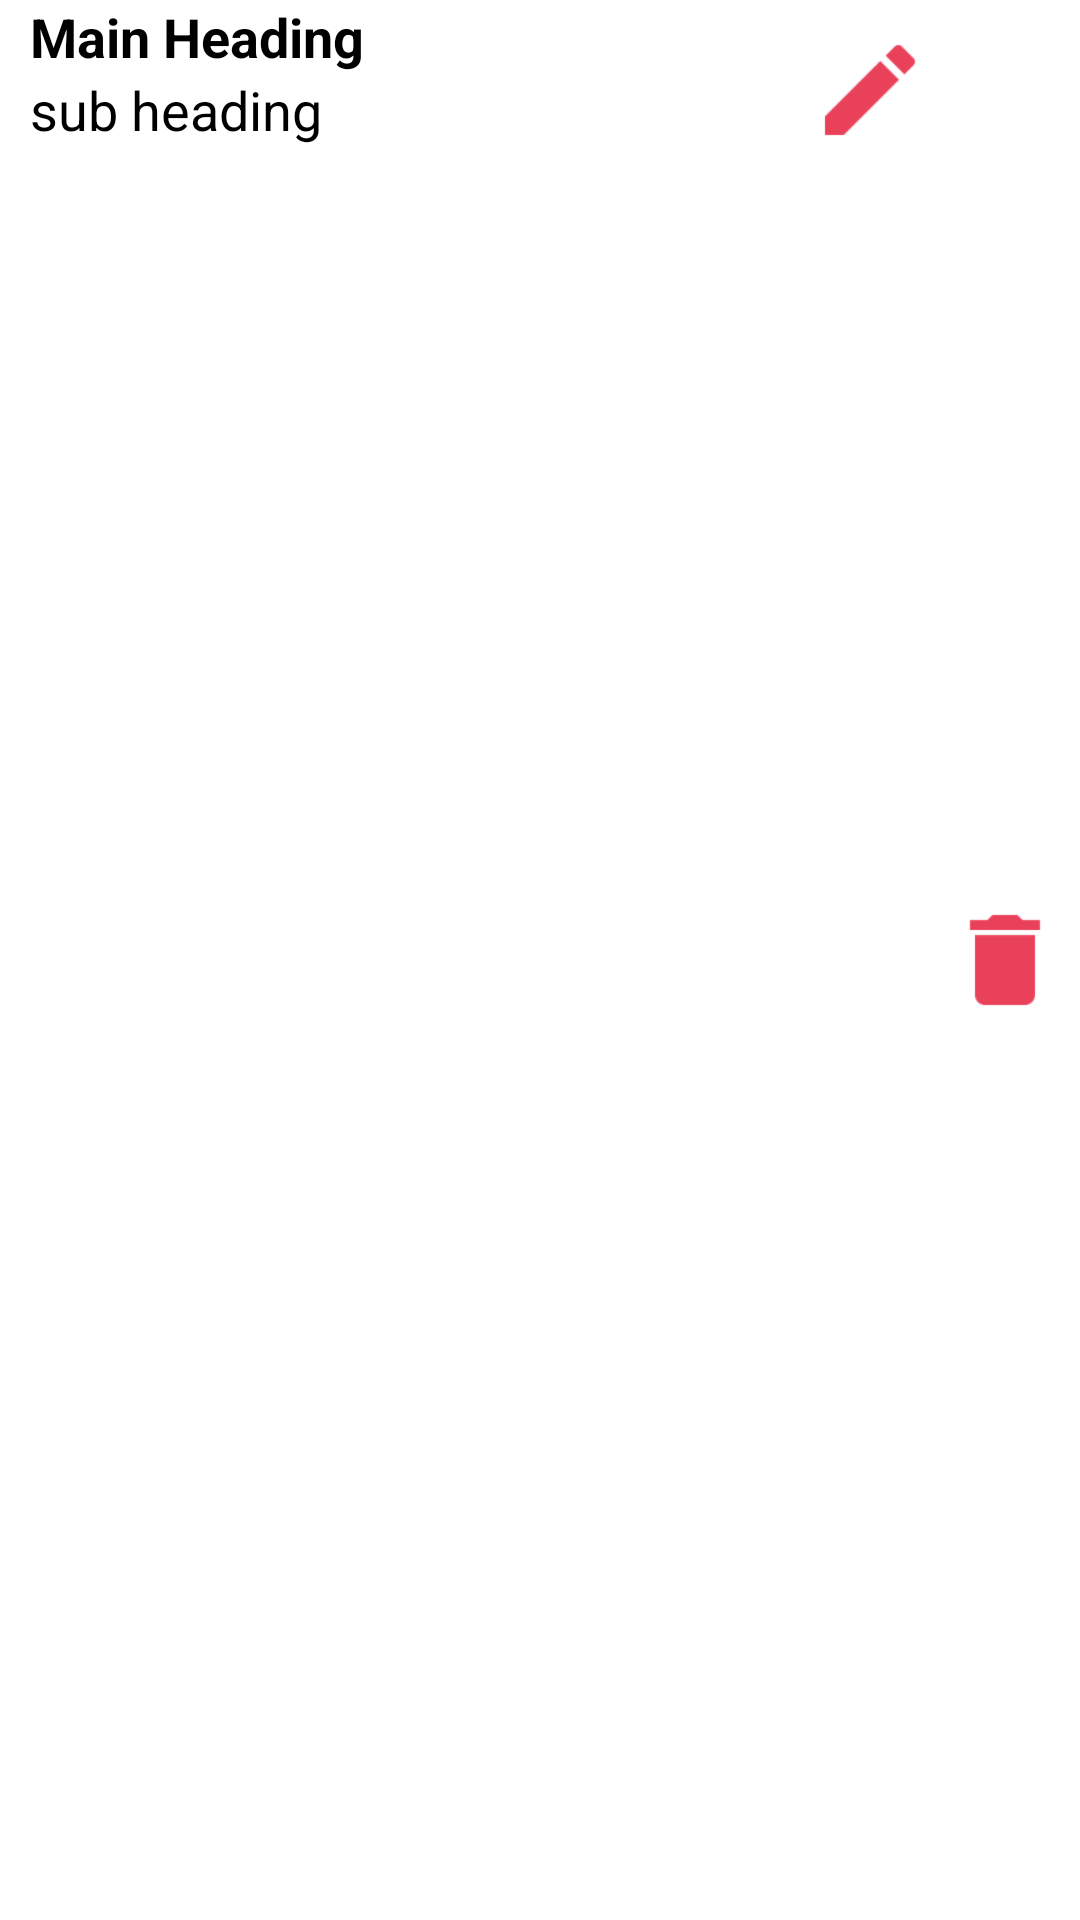

Icons on this 1080px x 1920px Android screen, each with the point to tap as [x,y]:
deletered: [1005,960]
editred: [870,90]
